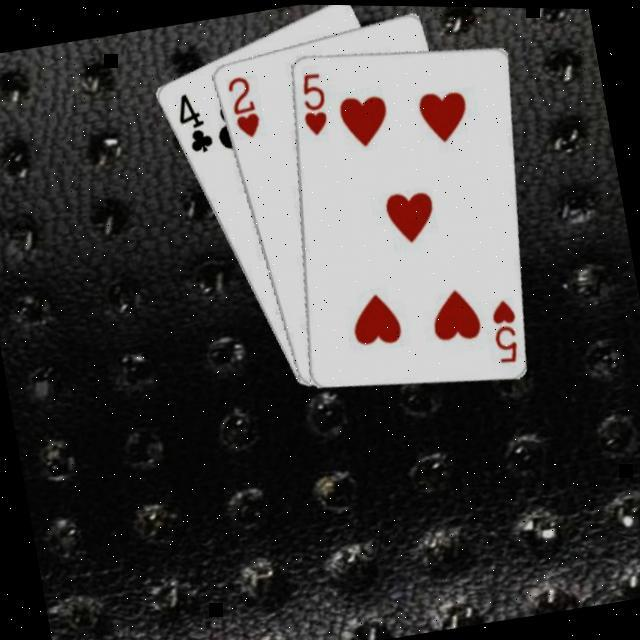2H: (222, 66, 265, 140)
4C: (172, 83, 218, 156)
5H: (485, 290, 527, 362), (294, 64, 334, 136)
